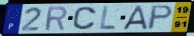2: (21, 6, 44, 32)
A: (122, 5, 149, 31)
C: (71, 6, 97, 31)
L: (98, 5, 117, 31)
P: (146, 4, 176, 31)
R: (44, 5, 69, 32)
